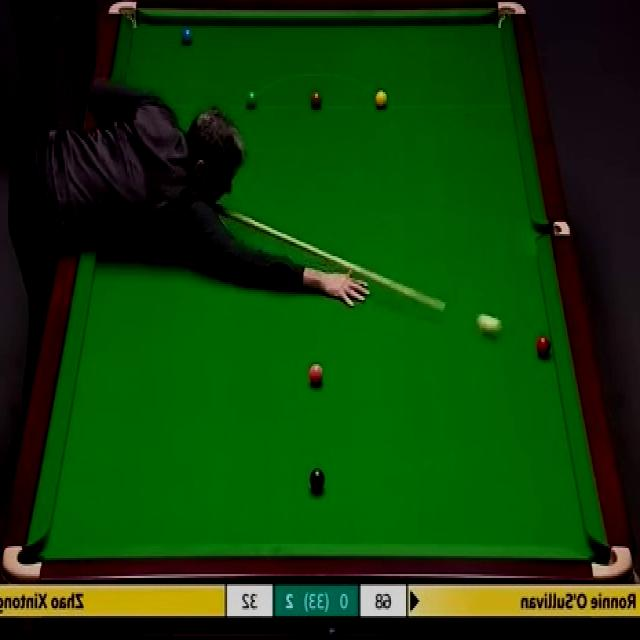black-ball: (309, 467, 326, 493)
blue-ball: (181, 27, 194, 44)
brown-ball: (309, 88, 324, 110)
green-ball: (245, 90, 260, 110)
pink-ball: (309, 363, 325, 386)
red-ball: (535, 333, 553, 358)
white-ball: (478, 310, 502, 339)
yellow-ball: (375, 88, 388, 109)
